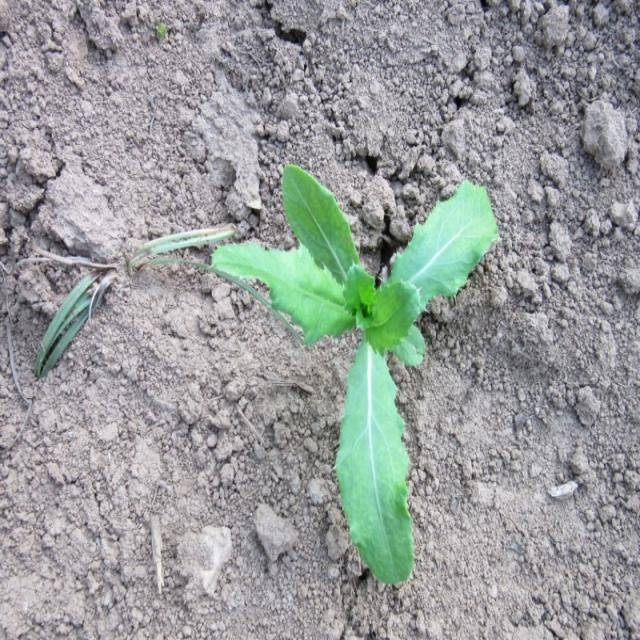cs: (211, 163, 502, 589)
